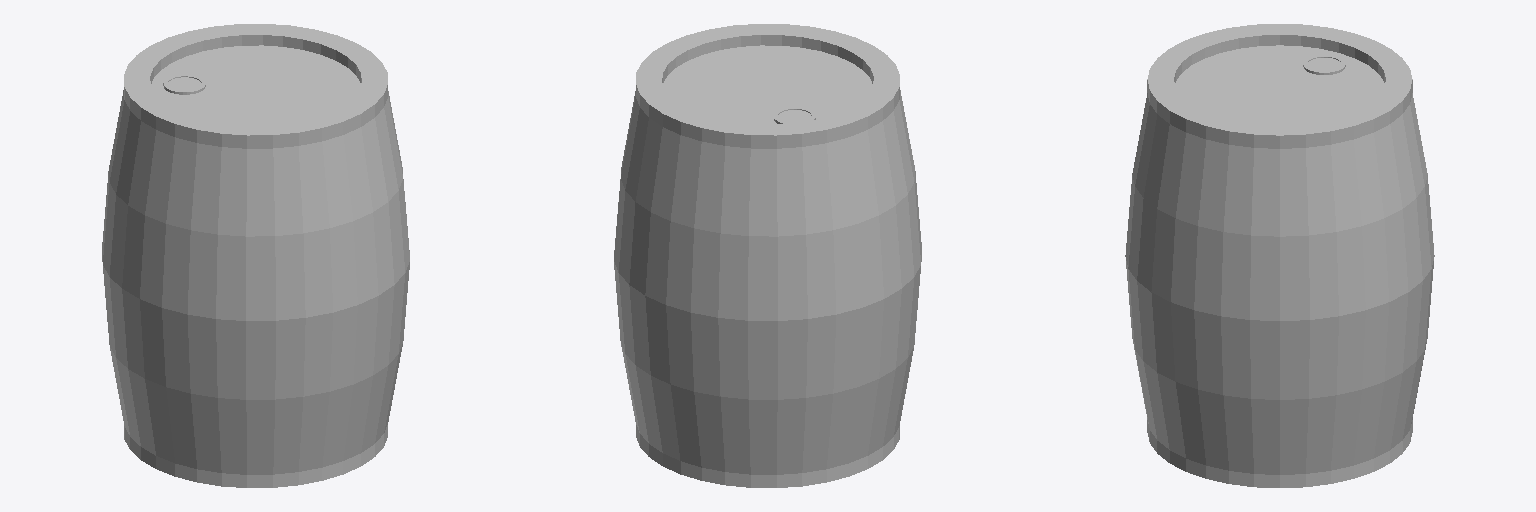
The model's file is woodbarrelz+.obj.
3 renders of one model, left to right at view 1: azimuth 30°, elevation 25°; view 2: azimuth 150°, elevation 25°; view 3: azimuth 270°, elevation 25°, orthographic.
Visible parts, largest first — view 1: Cylinder; view 2: Cylinder; view 3: Cylinder.
Boxes of the visible parts, box(x1,y1,x2,y2) form: Cylinder: box(102, 24, 409, 487); Cylinder: box(614, 24, 921, 487); Cylinder: box(1125, 24, 1434, 487).
Bounding box in the file's own units: 0.7946 × 1 × 0.7946.